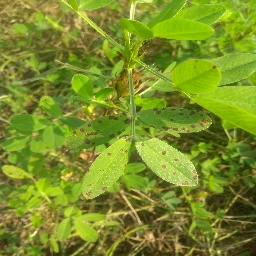GroundNut_Leaf: (80, 135, 132, 199), (138, 137, 200, 189), (138, 104, 214, 134), (168, 60, 222, 92), (154, 17, 216, 43), (9, 114, 53, 133), (72, 218, 99, 244), (70, 73, 96, 99), (2, 165, 29, 182), (53, 215, 68, 244)
